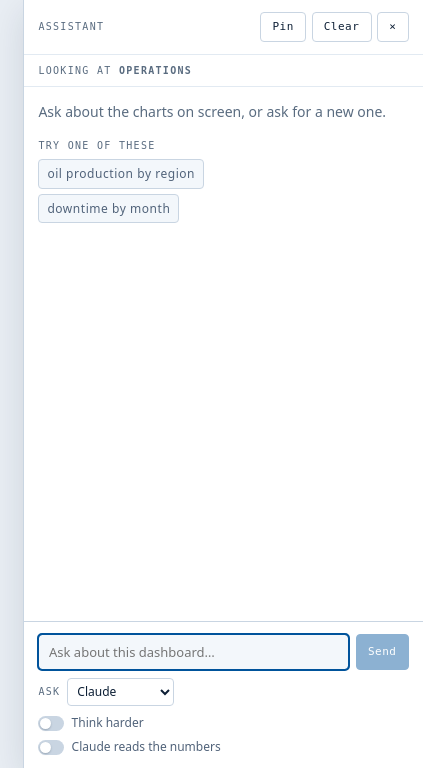
it: ChatPanel › surfaces a failed turn in the transcript rather than a toast
Type "hello" into the field labelled "Ask about this dashboard…" at (194, 652), box [38,634,349,670]
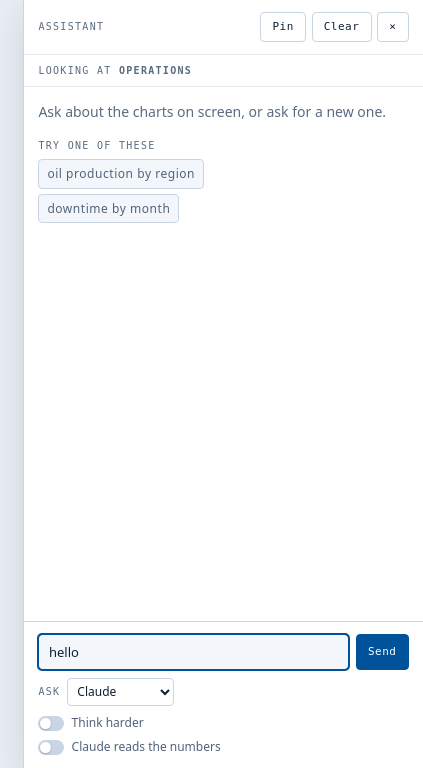
Click the button "Send" at (382, 652), box [356,634,409,670]
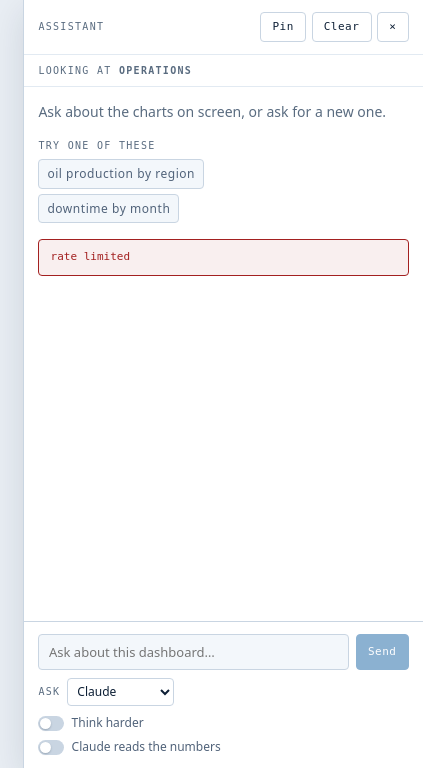
Now the text "rate limited" is shown, box [38,240,409,276]
